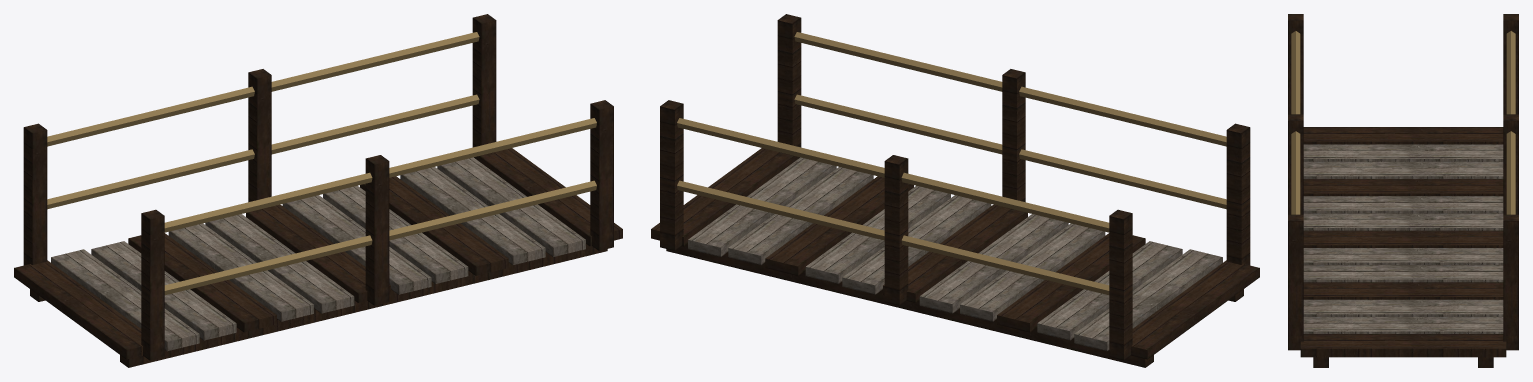
File: plank_bridge_01.glb
3 views of the same model, side by side, from view 1: azimuth 30°, elevation 25°; view 2: azimuth 150°, elevation 25°; view 3: azimuth 270°, elevation 25° (orthographic). The views are drawn at different scales.
Parts seen in each view (by area): view 1: plank_bridge_01; view 2: plank_bridge_01; view 3: plank_bridge_01.
Part boxes in pixels (bbox=[...]): plank_bridge_01: bbox=[14, 14, 622, 367]; plank_bridge_01: bbox=[651, 14, 1259, 367]; plank_bridge_01: bbox=[1288, 14, 1518, 367].
Size of the model in its own units: 3.32 by 1 by 1.46.
Materials: 3 (3 with a texture image).
